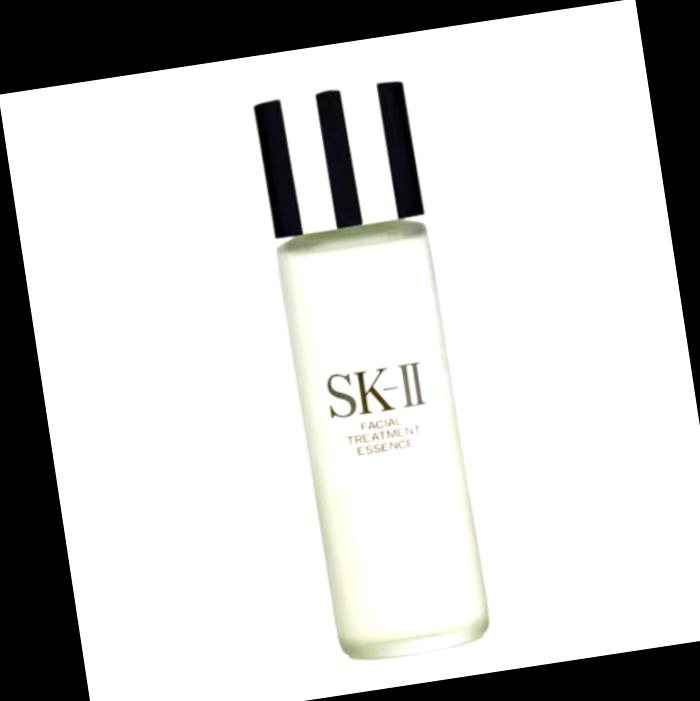cosmetic: (251, 81, 499, 668)
